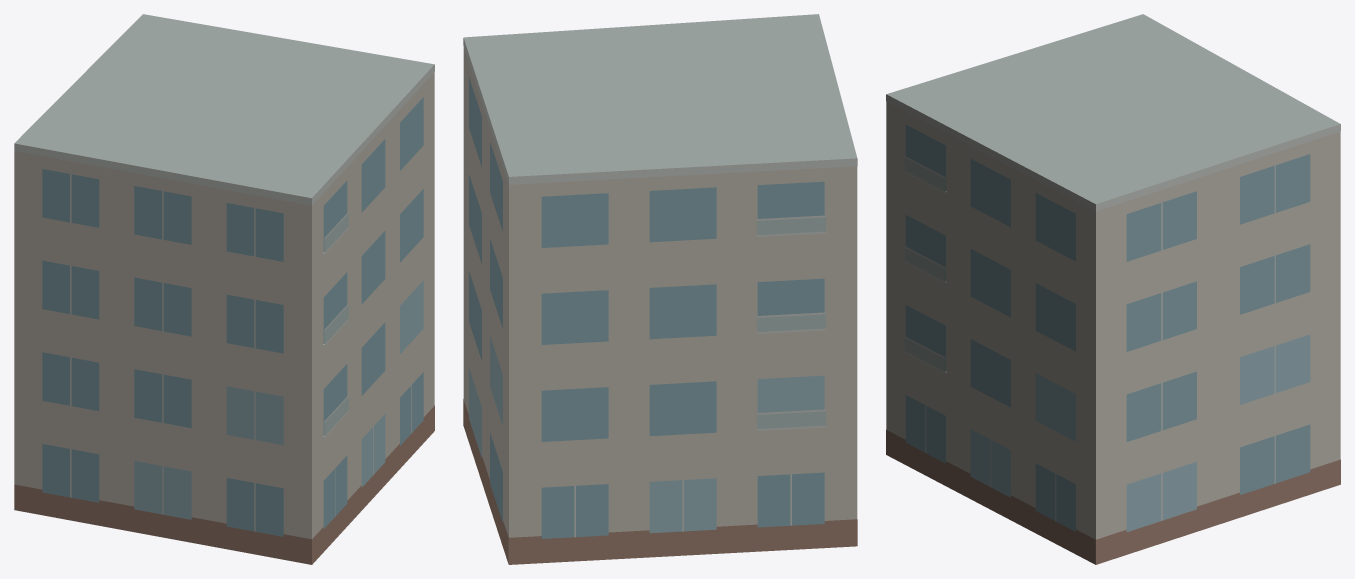
Rendered from survey-upis-32941564.glb.
3 views of the same model, side by side, from view 1: azimuth 30°, elevation 25°; view 2: azimuth 150°, elevation 25°; view 3: azimuth 270°, elevation 25° (orthographic). The views are drawn at different scales.
Parts seen in each view (by area): view 1: survey-upis-32941564.tmp; view 2: survey-upis-32941564.tmp; view 3: survey-upis-32941564.tmp.
Part boxes in pixels (x1=…): survey-upis-32941564.tmp: x1=14, y1=14, x2=434, y2=564; survey-upis-32941564.tmp: x1=463, y1=14, x2=857, y2=564; survey-upis-32941564.tmp: x1=886, y1=14, x2=1340, y2=564.
Bounding box in the file's own units: 13.7 × 12.1 × 13.83.
